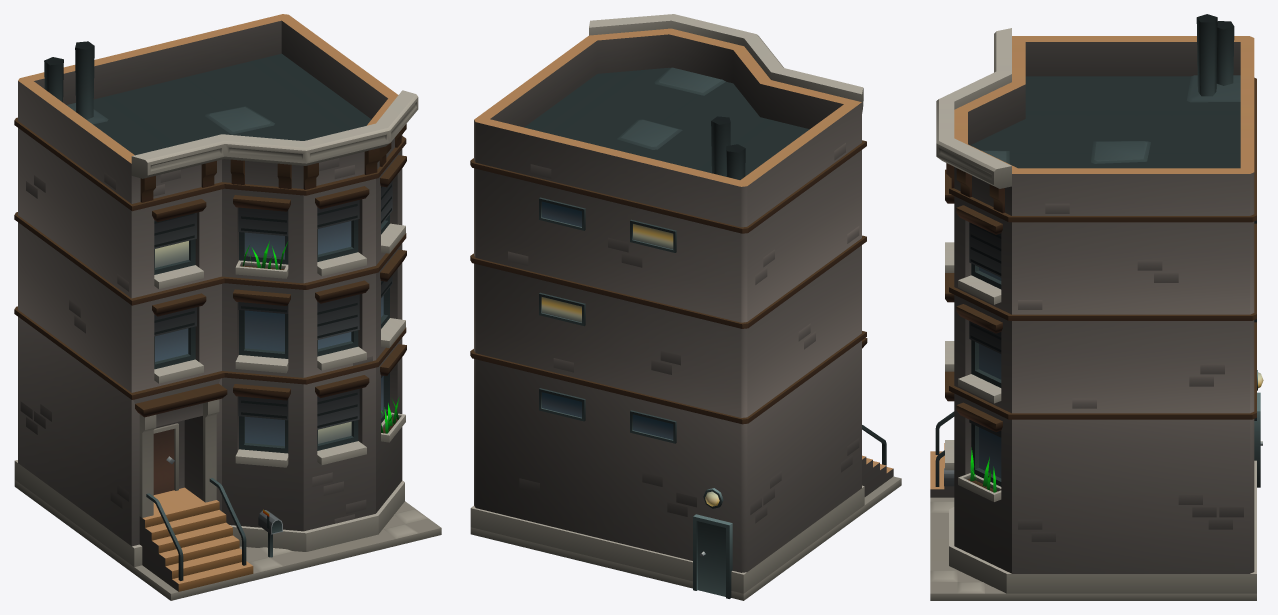
Rendered from Building_3A.fbx.
3 renders of one model, left to right at view 1: azimuth 30°, elevation 25°; view 2: azimuth 150°, elevation 25°; view 3: azimuth 270°, elevation 25°, orthographic. The views are drawn at different scales.
Visible parts, largest first — view 1: Building_3A, Window_Lights_3A; view 2: Building_3A, Window_Lights_3A; view 3: Building_3A.
Part boxes in pixels (box(x1,y1,x2,y2)): Building_3A: box(14, 14, 441, 600); Window_Lights_3A: box(155, 241, 351, 443); Building_3A: box(470, 14, 901, 600); Window_Lights_3A: box(541, 224, 673, 322); Building_3A: box(930, 14, 1263, 600).
Bounding box in the file's own units: 12.42 × 18.95 × 12.24.
